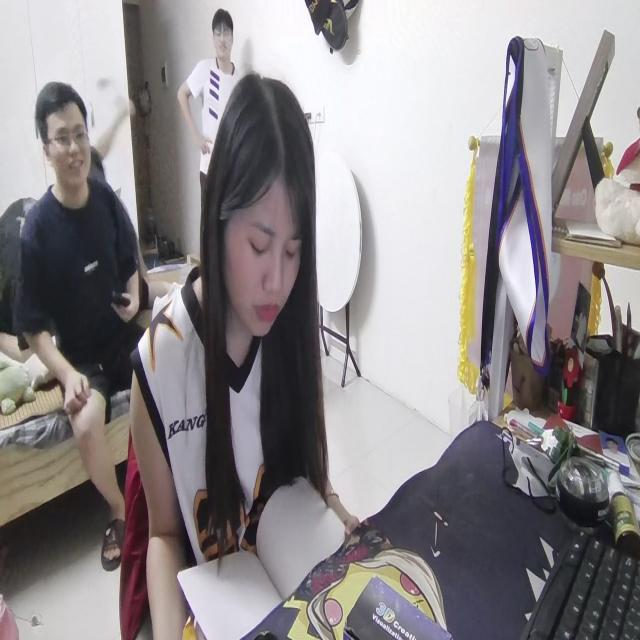book: (178, 466, 350, 640)
extra_person: (18, 82, 154, 520), (174, 7, 244, 192)
student: (130, 71, 362, 640)
